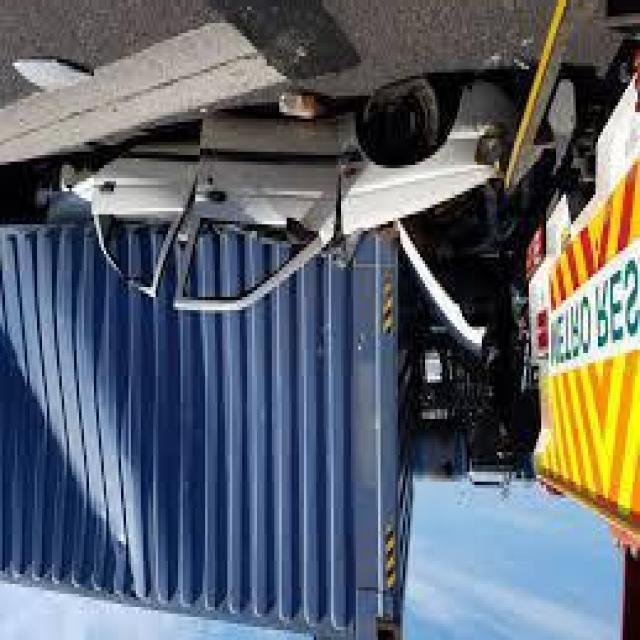severe: (2, 69, 529, 627)
